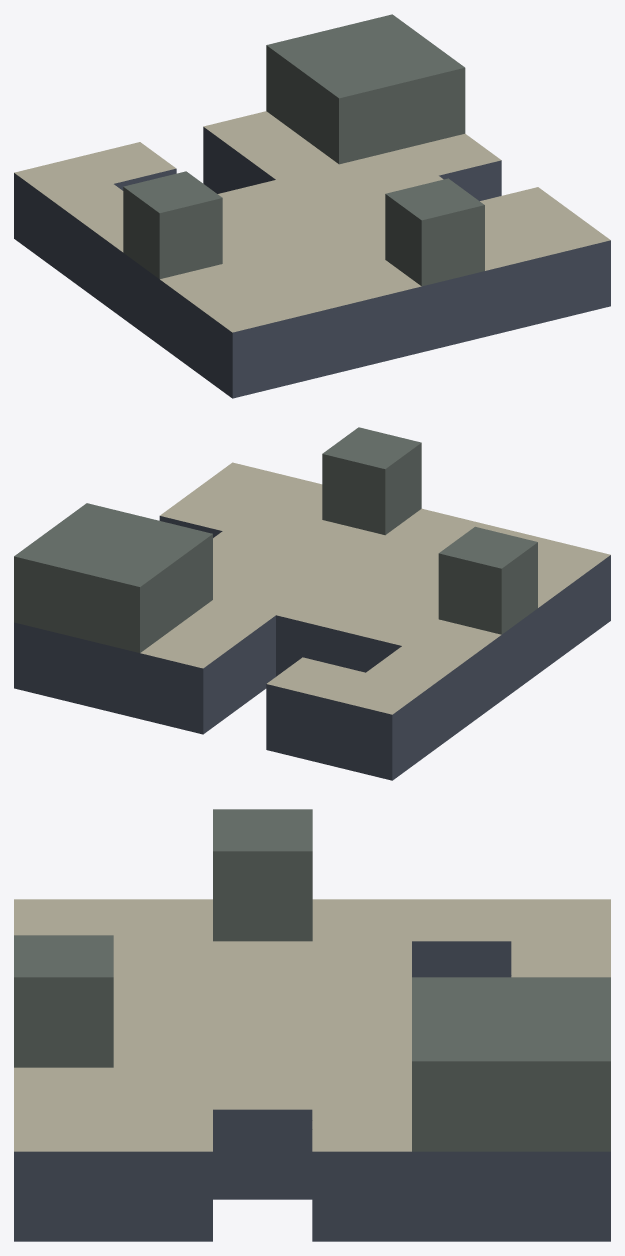
3 renders of one model, top to bottom at view 1: azimuth 30°, elevation 25°; view 2: azimuth 150°, elevation 25°; view 3: azimuth 270°, elevation 25°, orthographic. The views are drawn at different scales.
Visible parts, largest first — view 1: 7.1; view 2: 7.1; view 3: 7.1.
Boxes of the visible parts, <box> form: 7.1: <box>14,14,610,398</box>; 7.1: <box>14,427,610,780</box>; 7.1: <box>14,809,610,1241</box>.
Bounding box in the file's own units: 600 × 200 × 600.
